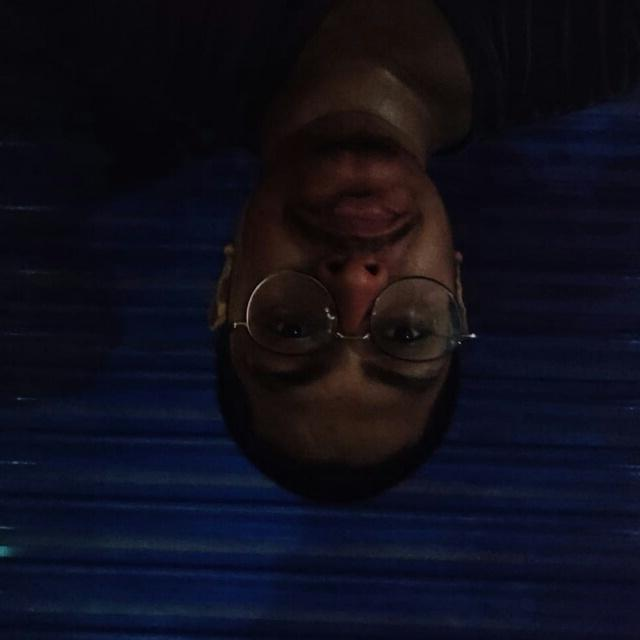Sad: (213, 105, 483, 470)
